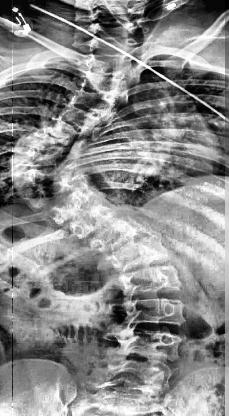Vertebrae: (112, 327, 188, 367), (100, 354, 172, 394), (82, 215, 151, 249), (104, 234, 173, 268), (116, 264, 186, 297), (123, 295, 188, 329), (67, 204, 119, 238), (44, 192, 98, 224), (67, 86, 125, 115), (14, 143, 66, 173), (17, 182, 72, 210), (54, 102, 102, 132), (85, 50, 137, 76), (36, 116, 84, 144), (78, 68, 130, 92), (20, 128, 68, 154), (12, 167, 64, 189), (89, 35, 139, 56), (88, 7, 138, 26), (89, 21, 139, 38)
